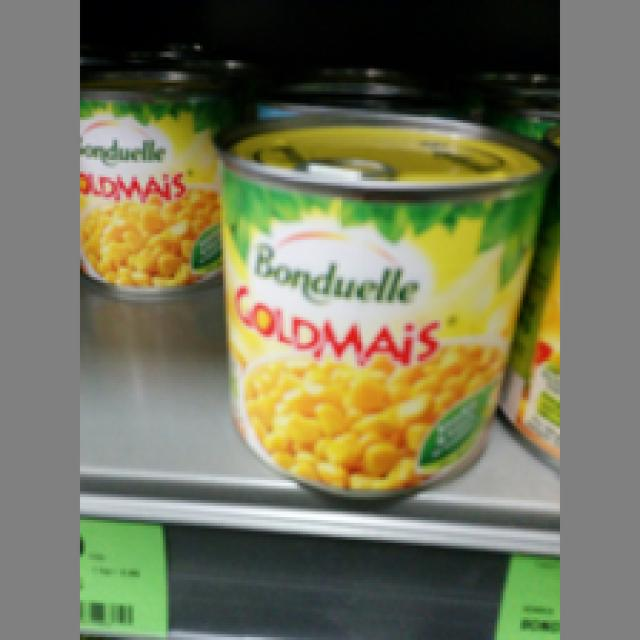groceries: (212, 103, 548, 500), (80, 69, 223, 294)
